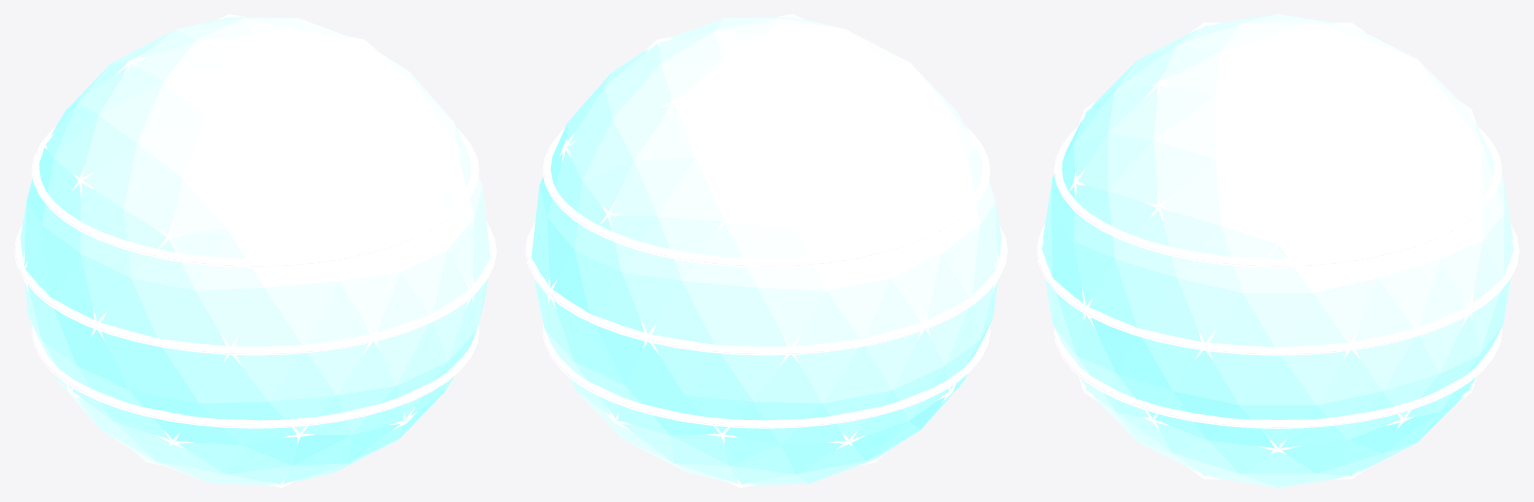
File: G11_Shield_Bubble.glb
3 renders of one model, left to right at view 1: azimuth 30°, elevation 25°; view 2: azimuth 150°, elevation 25°; view 3: azimuth 270°, elevation 25°, orthographic.
Parts seen in each view (by area): view 1: G11_Shield_Bubble_Mesh; view 2: G11_Shield_Bubble_Mesh; view 3: G11_Shield_Bubble_Mesh.
Part boxes in pixels (left/top/right/bottom): G11_Shield_Bubble_Mesh: left=14, top=14, right=496, bottom=487; G11_Shield_Bubble_Mesh: left=525, top=14, right=1007, bottom=487; G11_Shield_Bubble_Mesh: left=1036, top=14, right=1519, bottom=487.
Size of the model in its own units: 3.26 by 3.24 by 3.26.
